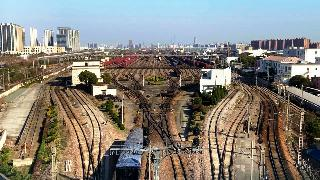train: (111, 126, 144, 180), (166, 86, 179, 97)
